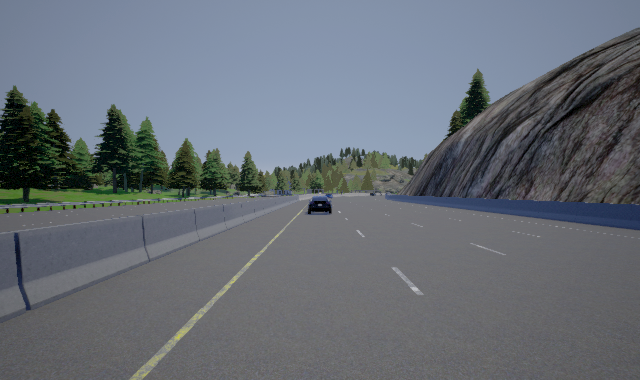vehicle: (308, 194, 333, 214)
